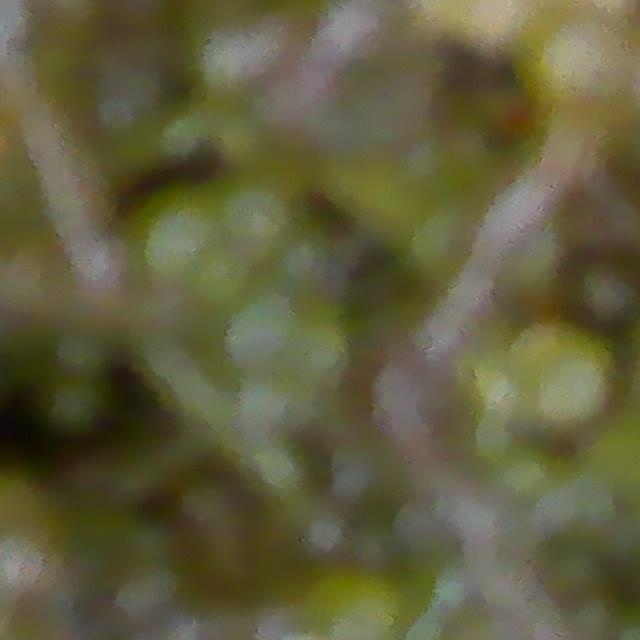SeaGrape: (527, 326, 615, 428), (214, 166, 301, 257), (220, 288, 304, 374), (286, 310, 357, 387), (572, 259, 640, 330), (40, 372, 110, 439), (187, 244, 254, 312)
